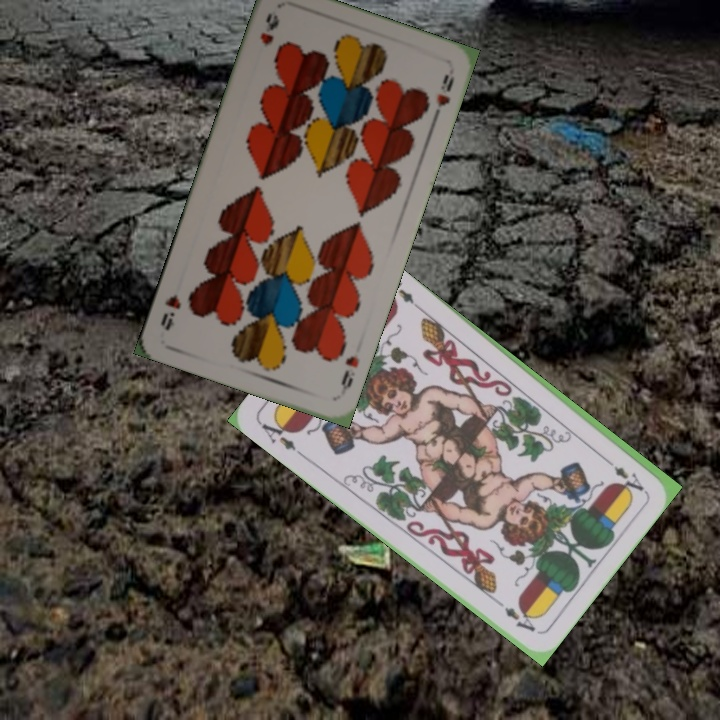EA: (598, 451, 646, 494), (256, 413, 299, 453)
H9: (336, 352, 362, 398), (256, 9, 282, 48)
